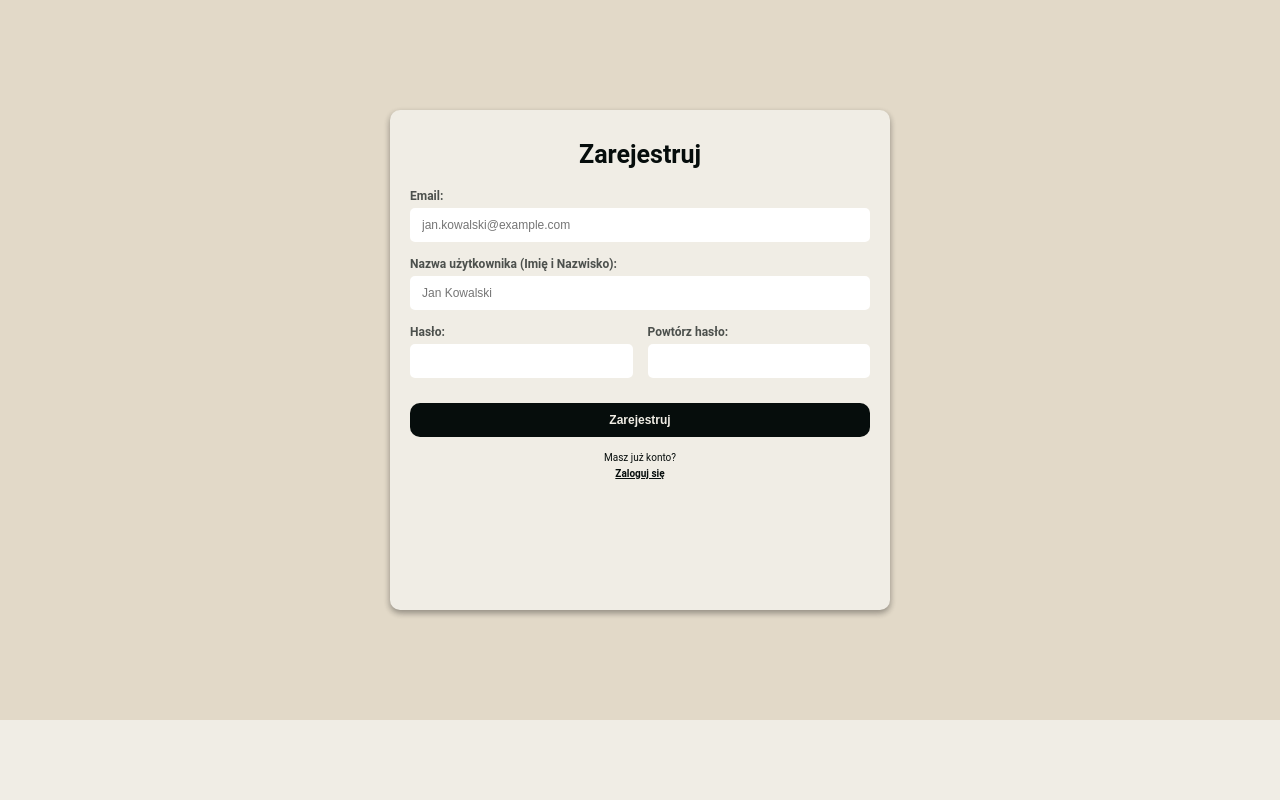
Test case: Register › błąd rejestracji › wyświetla komunikat błędu z API
Type "haslo123" into the password field labelled "Hasło:".
click(521, 361); type("haslo123")  # box x1=410 y1=344 x2=632 y2=378
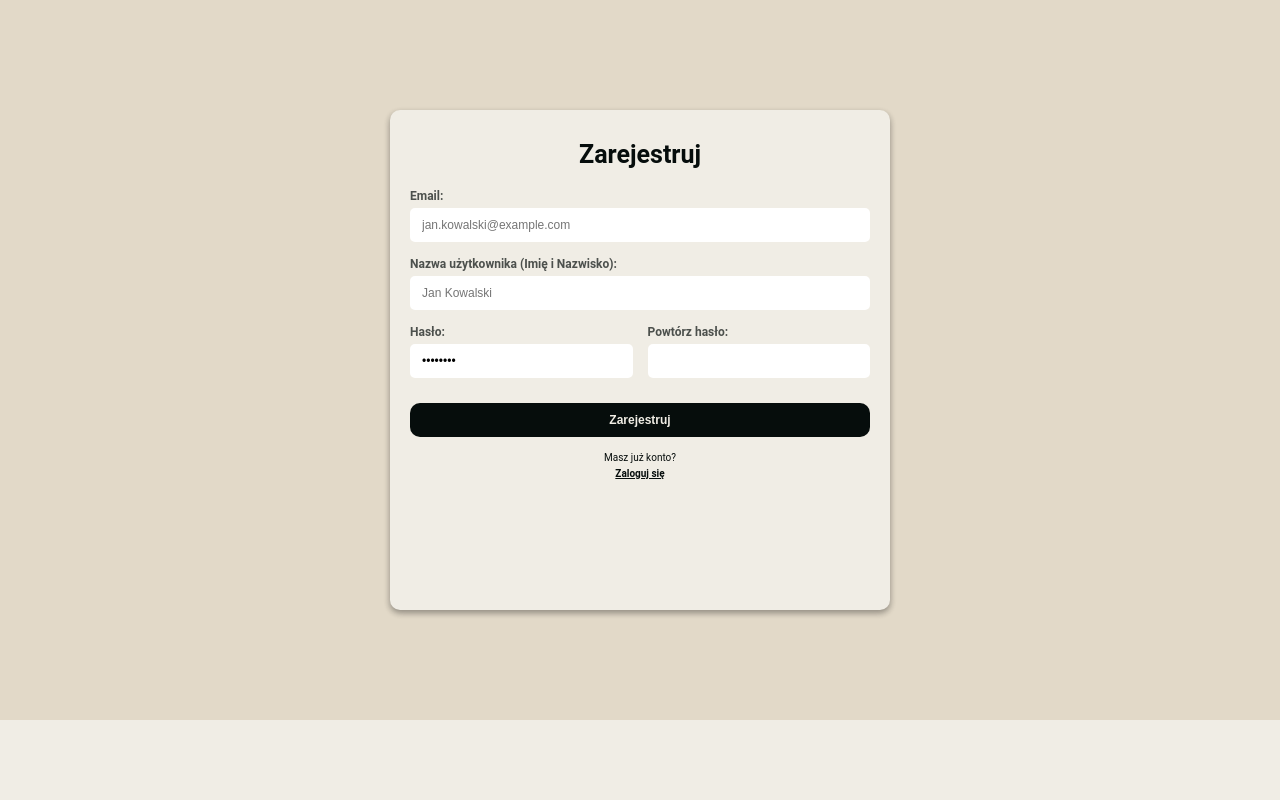
Type "haslo123" into the password field labelled "Powtórz hasło:".
click(759, 361); type("haslo123")  # box x1=648 y1=344 x2=870 y2=378
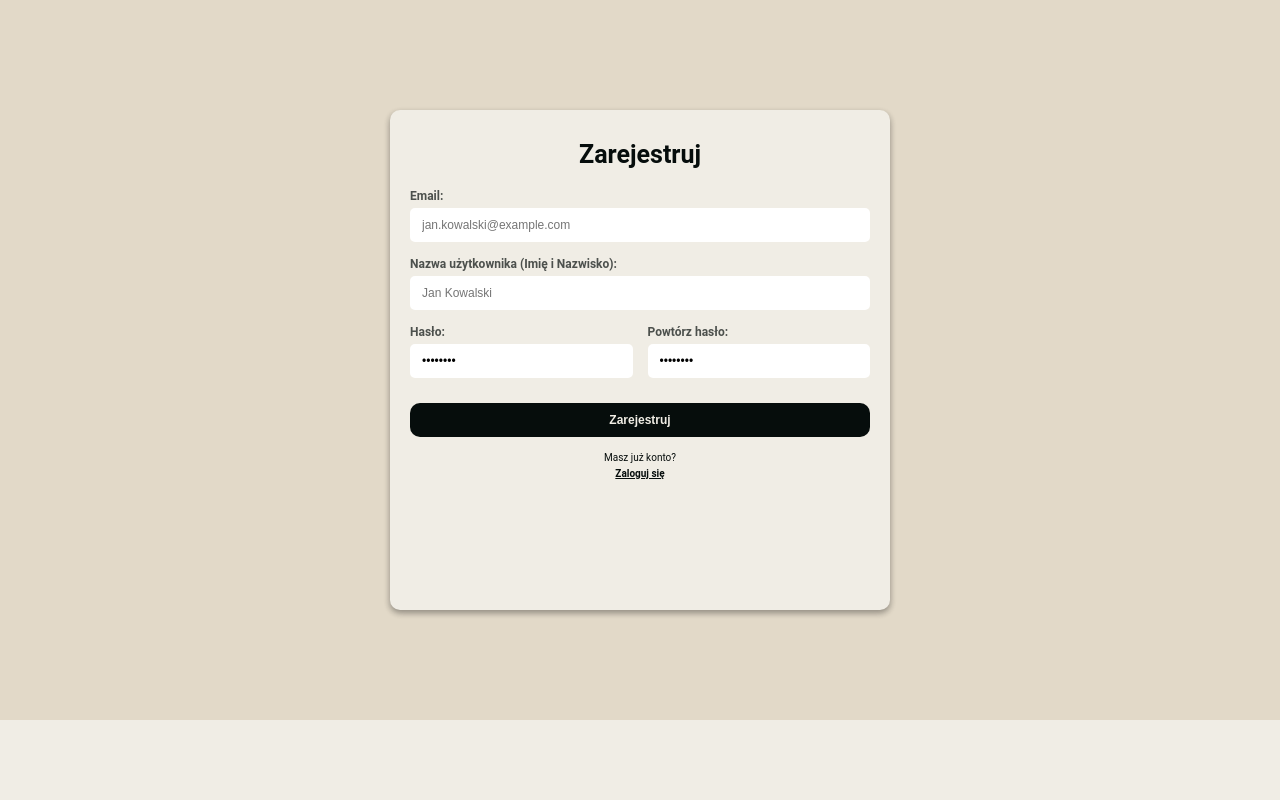
Submit the form, box x1=410 y1=140 x2=870 y2=479
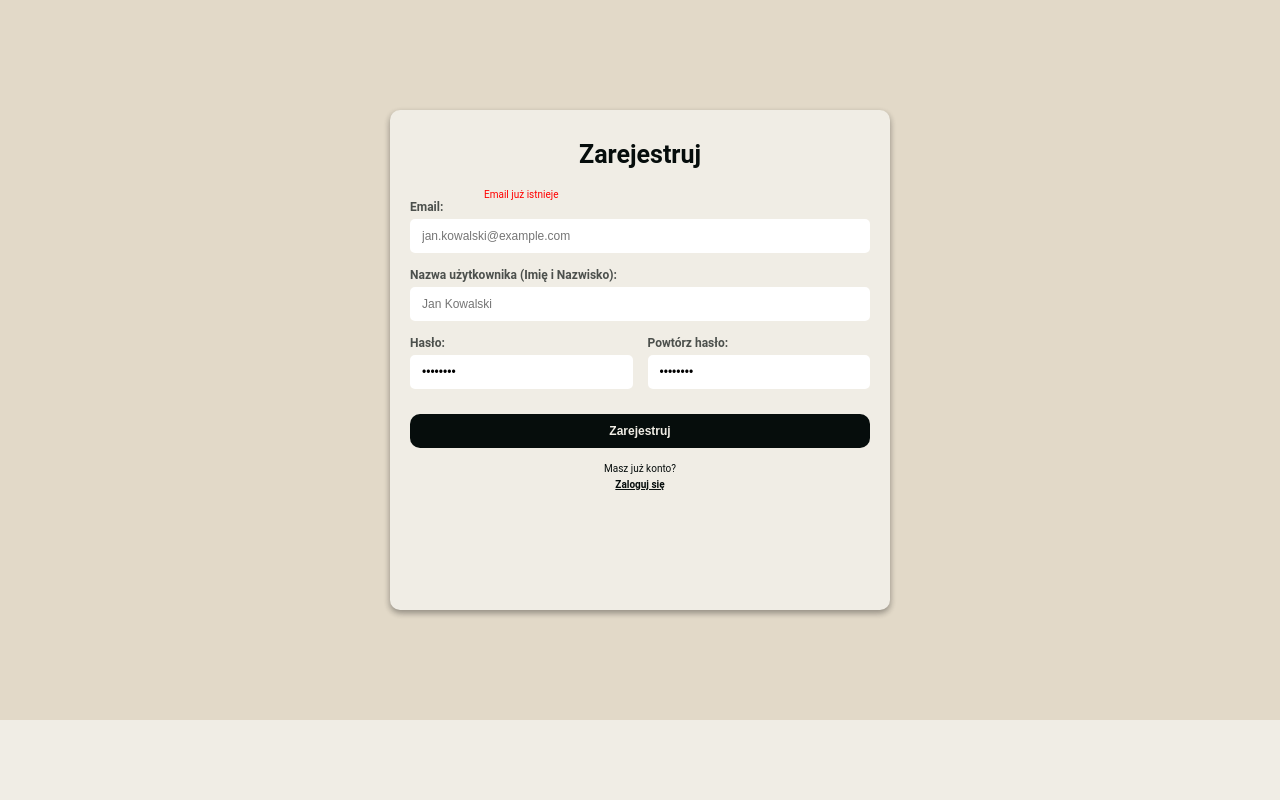
expect the text "Email już istnieje" is shown: met, box x1=484 y1=189 x2=558 y2=200
